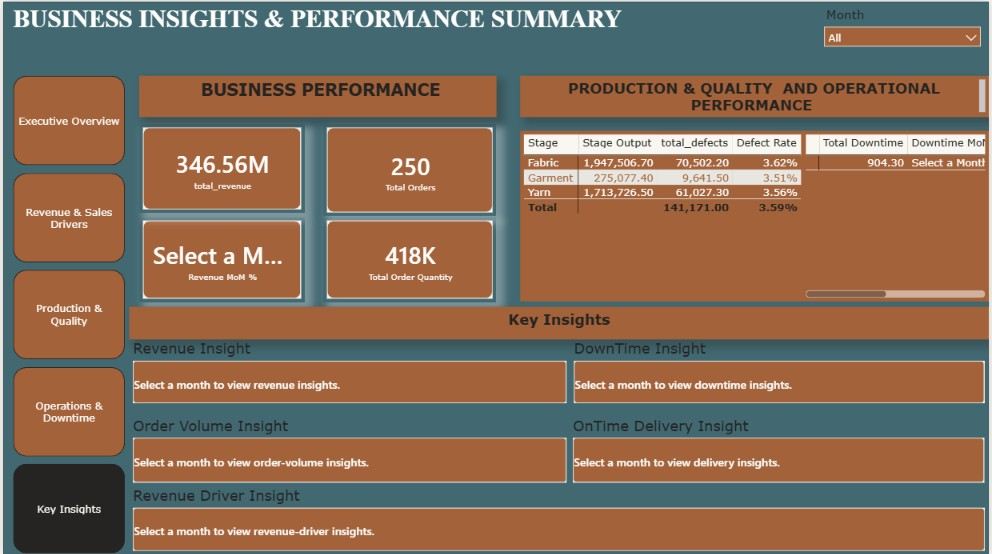

This screenshot's page, from the dashboard's own definition file:
{"tool":"powerbi","page":{"name":"Key Insights","canvas":[1280,720],"ordinal":4},"visuals":[{"type":"pageNavigator","box":[12.4,174.5,145.6,545.4],"z":0},{"type":"slicer","fields":{"Values":["Date.Month"]},"box":[11.7,72.7,151.9,90.9],"z":1000},{"type":"cardVisual","fields":{"Data":["measure.Total Orders"]},"box":[363.3,163.3,226.7,133.3],"z":2000},{"type":"cardVisual","fields":{"Data":["measure.Revenue MoM %"]},"box":[160,280,215,131.7],"z":3000},{"type":"cardVisual","fields":{"Data":["measure.total_revenue"]},"box":[160,160,215,136.7],"z":4000},{"type":"cardVisual","fields":{"Data":["measure.Total Order Quantity"]},"box":[363.3,281.7,226.7,125],"z":5000},{"type":"pivotTable","fields":{"Rows":["Dim_Products.Stage"],"Values":["measure.Stage Output","measure.total_defects","measure.defect_rate"]},"box":[620,163.3,343.3,228.3],"z":6000},{"type":"pivotTable","fields":{"Values":["measure.Total Downtime","measure.Downtime MoM %","measure.Avg Delay Days","measure.on_time_orders"]},"box":[990,173.3,290,218.3],"z":7000},{"type":"textbox","box":[176.7,95,463.3,65],"z":8000},{"type":"textbox","box":[640,95,640,65],"z":9000},{"type":"textbox","box":[157.1,406.5,1123.4,32.5],"z":10000},{"type":"textbox","box":[0,0,1280,66.7],"z":11000},{"type":"cardVisual","title":"Revenue Insight","fields":{"Data":["measure.Revenue Insight"]},"box":[163.6,439,609.1,96.1],"z":12000},{"type":"cardVisual","title":"DownTime Insight","fields":{"Data":["measure.Downtime Insight"]},"box":[710,438.3,570,86.7],"z":13000},{"type":"cardVisual","title":"OnTime Delivery Insight","fields":{"Data":["measure.Delivery Insight"]},"box":[710,528.3,570,95],"z":14000},{"type":"cardVisual","title":"Order Volume Insight","fields":{"Data":["measure.Order Volume Insight"]},"box":[163.6,535.1,502.6,96.1],"z":15000},{"type":"cardVisual","title":"Revenue Driver Insight","fields":{"Data":["measure.Revenue Driver Insight"]},"box":[176.7,623.3,1103.3,96.7],"z":16000}]}

Visuals, with their boxes in screenshot pixels (x1, y1, x2, y2), scaled from the page's 1280x720 canvas onto the 992x554 screenshot:
pageNavigator: Rect(10, 134, 122, 553)
slicer - Date.Month: Rect(9, 56, 127, 126)
cardVisual - measure.Total Orders: Rect(282, 126, 457, 228)
cardVisual - measure.Revenue MoM %: Rect(124, 215, 291, 317)
cardVisual - measure.total_revenue: Rect(124, 123, 291, 228)
cardVisual - measure.Total Order Quantity: Rect(282, 217, 457, 313)
pivotTable - Dim_Products.Stage x measure.Stage Output: Rect(480, 126, 747, 301)
pivotTable - measure.Total Downtime x measure.Downtime MoM %: Rect(767, 133, 991, 301)
textbox: Rect(137, 73, 496, 123)
textbox: Rect(496, 73, 991, 123)
textbox: Rect(122, 313, 991, 338)
textbox: Rect(0, 0, 991, 51)
"Revenue Insight" cardVisual: Rect(127, 338, 599, 412)
"DownTime Insight" cardVisual: Rect(550, 337, 991, 404)
"OnTime Delivery Insight" cardVisual: Rect(550, 406, 991, 480)
"Order Volume Insight" cardVisual: Rect(127, 412, 516, 486)
"Revenue Driver Insight" cardVisual: Rect(137, 480, 991, 553)
